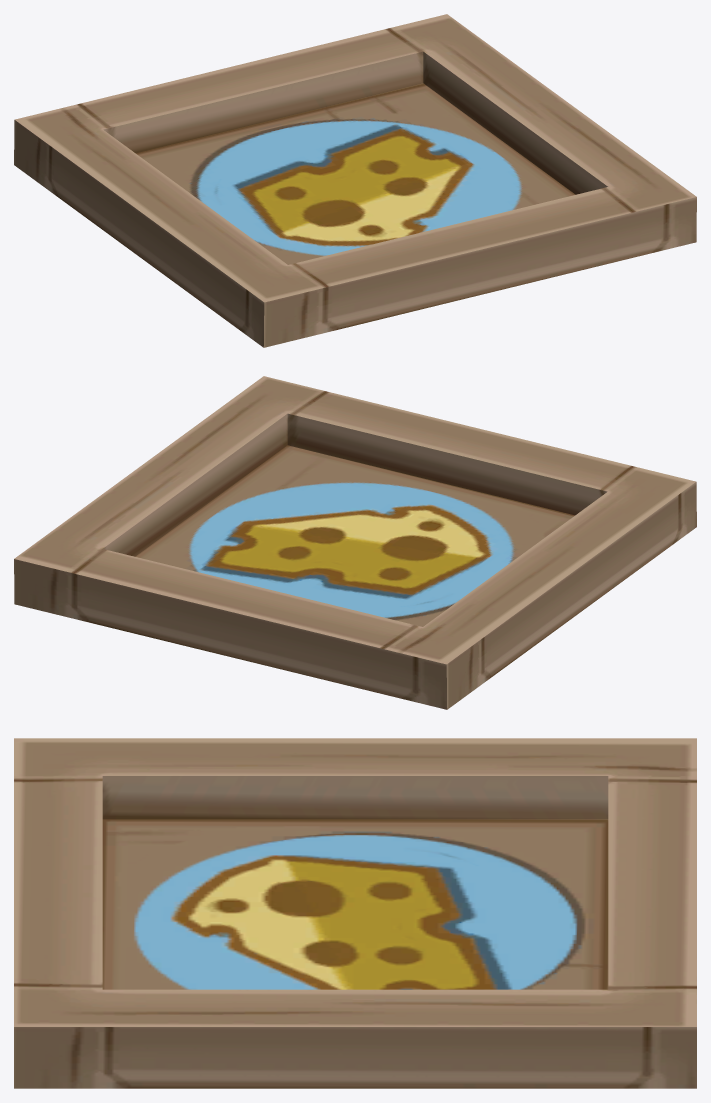
File: CrateLid_cheese.obj
3 views of the same model, one above another, from view 1: azimuth 30°, elevation 25°; view 2: azimuth 150°, elevation 25°; view 3: azimuth 270°, elevation 25° (orthographic). The views are drawn at different scales.
Parts seen in each view (by area): view 1: CrateLid_mesh-sharedassets2.assets-136; view 2: CrateLid_mesh-sharedassets2.assets-136; view 3: CrateLid_mesh-sharedassets2.assets-136.
Boxes of the visible parts, left/top/right/bottom form: CrateLid_mesh-sharedassets2.assets-136: left=14, top=14, right=696, bottom=347; CrateLid_mesh-sharedassets2.assets-136: left=14, top=376, right=696, bottom=709; CrateLid_mesh-sharedassets2.assets-136: left=14, top=738, right=696, bottom=1088.
Size of the model in its own units: 1 by 0.1 by 1.
